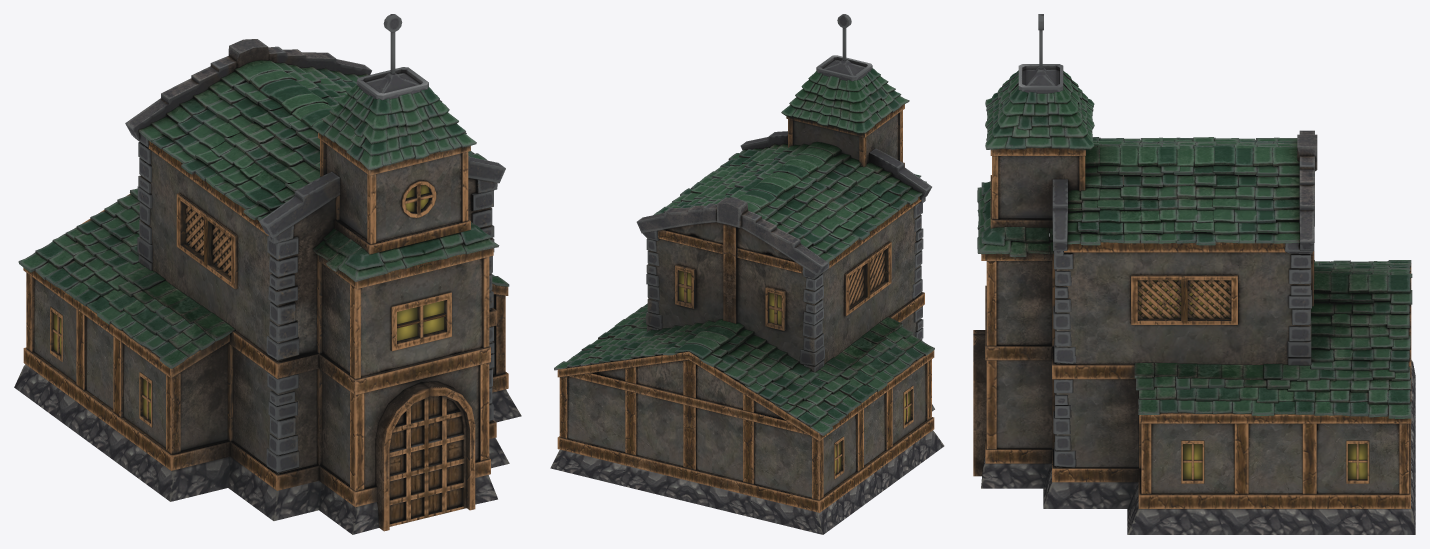
Rendered from bank1.glb.
3 renders of one model, left to right at view 1: azimuth 30°, elevation 25°; view 2: azimuth 150°, elevation 25°; view 3: azimuth 270°, elevation 25°, orthographic. The views are drawn at different scales.
Visible parts, largest first — view 1: Object_4, Object_2, Object_3; view 2: Object_4, Object_3, Object_2; view 3: Object_4, Object_2, Object_3.
Part boxes in pixels (bbox=[...]): Object_4: bbox=[14, 14, 508, 534]; Object_2: bbox=[23, 32, 509, 524]; Object_3: bbox=[18, 16, 521, 534]; Object_4: bbox=[550, 14, 944, 534]; Object_3: bbox=[554, 15, 934, 512]; Object_2: bbox=[559, 28, 934, 512]; Object_4: bbox=[973, 14, 1415, 534]; Object_2: bbox=[977, 30, 1410, 508]; Object_3: bbox=[978, 21, 1412, 534].
Bounding box in the file's own units: 7.69 × 10.01 × 9.1.
Materials: 1 (1 with a texture image).
